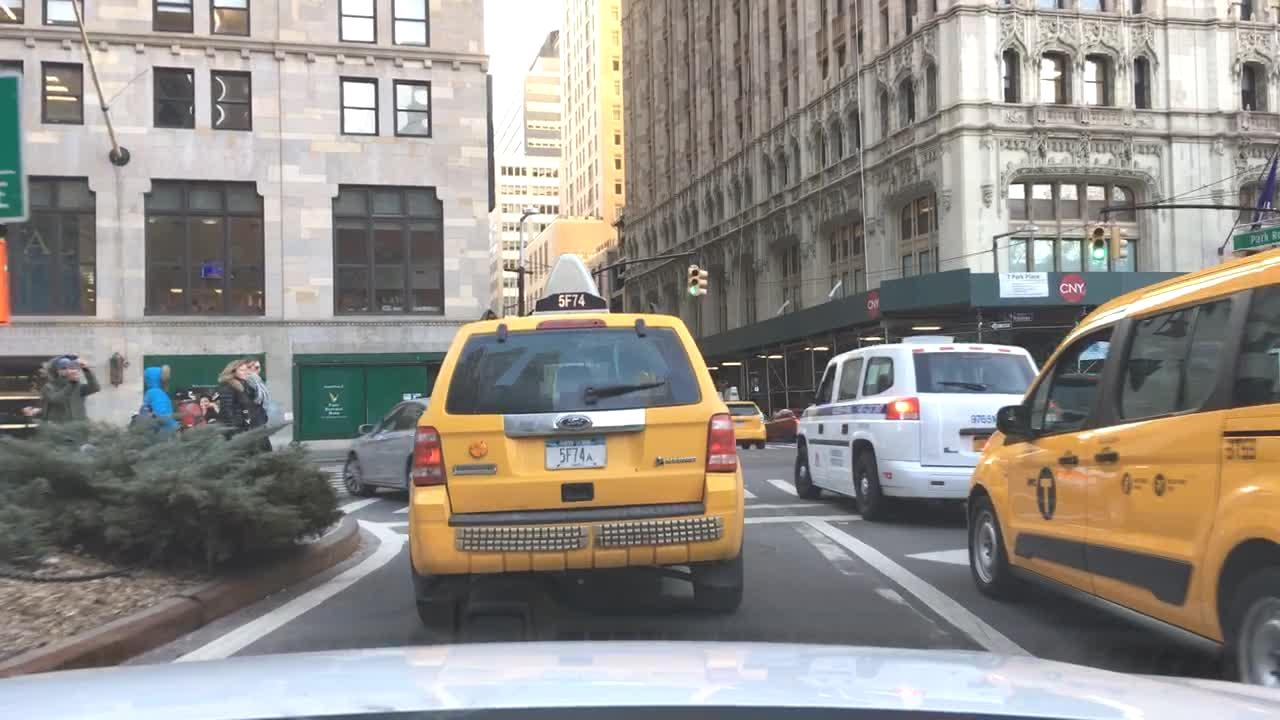ford: (550, 409, 599, 435)
